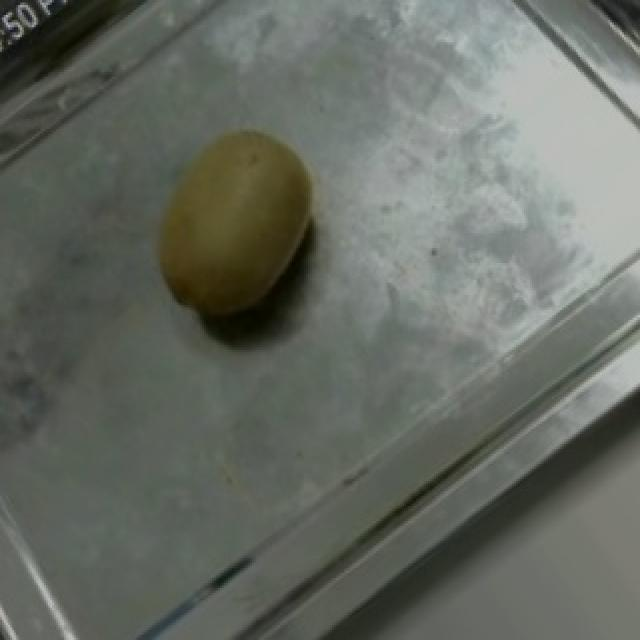Fruit: (116, 92, 352, 355)
